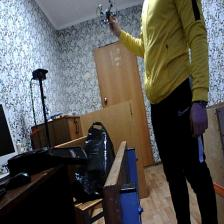drone: (94, 0, 122, 29)
